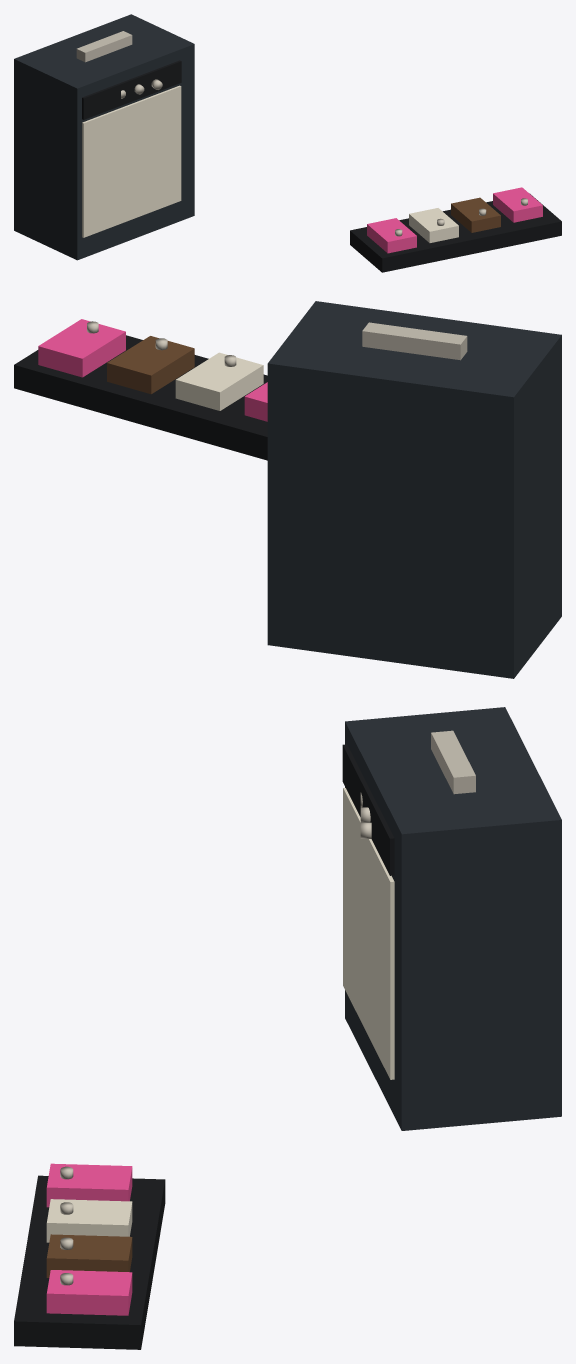
The model's file is noodle-stage-props-v2.glb.
3 renders of one model, top to bottom at view 1: azimuth 30°, elevation 25°; view 2: azimuth 150°, elevation 25°; view 3: azimuth 270°, elevation 25°, orthographic. The views are drawn at different scales.
Parts seen in each view (by area): view 1: noodle-stage-props; view 2: noodle-stage-props; view 3: noodle-stage-props.
Part boxes in pixels (left/top/right/bottom): noodle-stage-props: left=14, top=14, right=561, bottom=272; noodle-stage-props: left=14, top=301, right=561, bottom=678; noodle-stage-props: left=14, top=707, right=561, bottom=1349.
Bounding box in the file's own units: 0.8999 × 0.38 × 0.6023.
